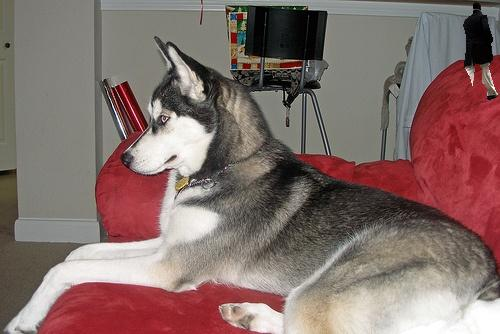tampered: (464, 3, 498, 100)
